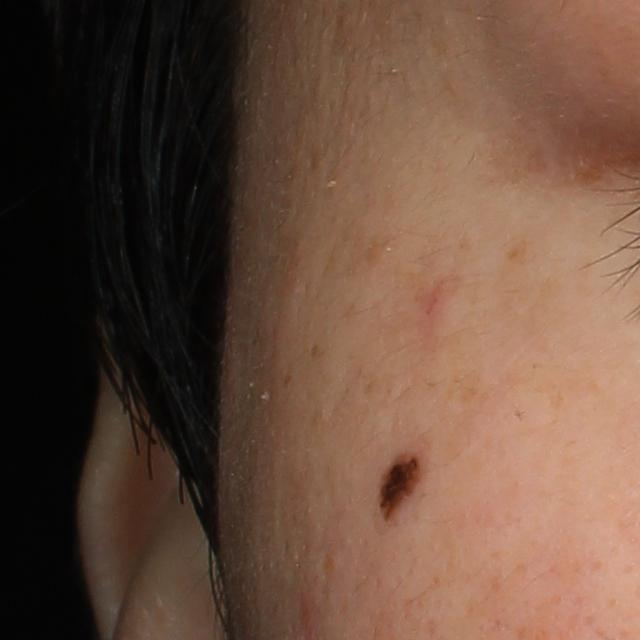nevus: (375, 453, 430, 528)
